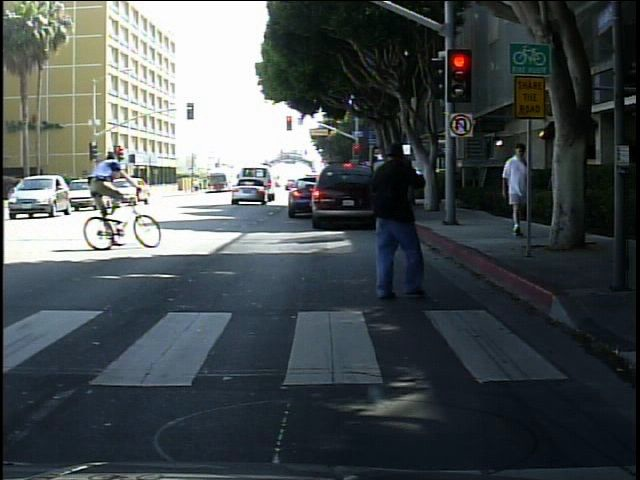person: (359, 132, 433, 304), (64, 137, 127, 241), (555, 138, 590, 245), (497, 139, 532, 238)
